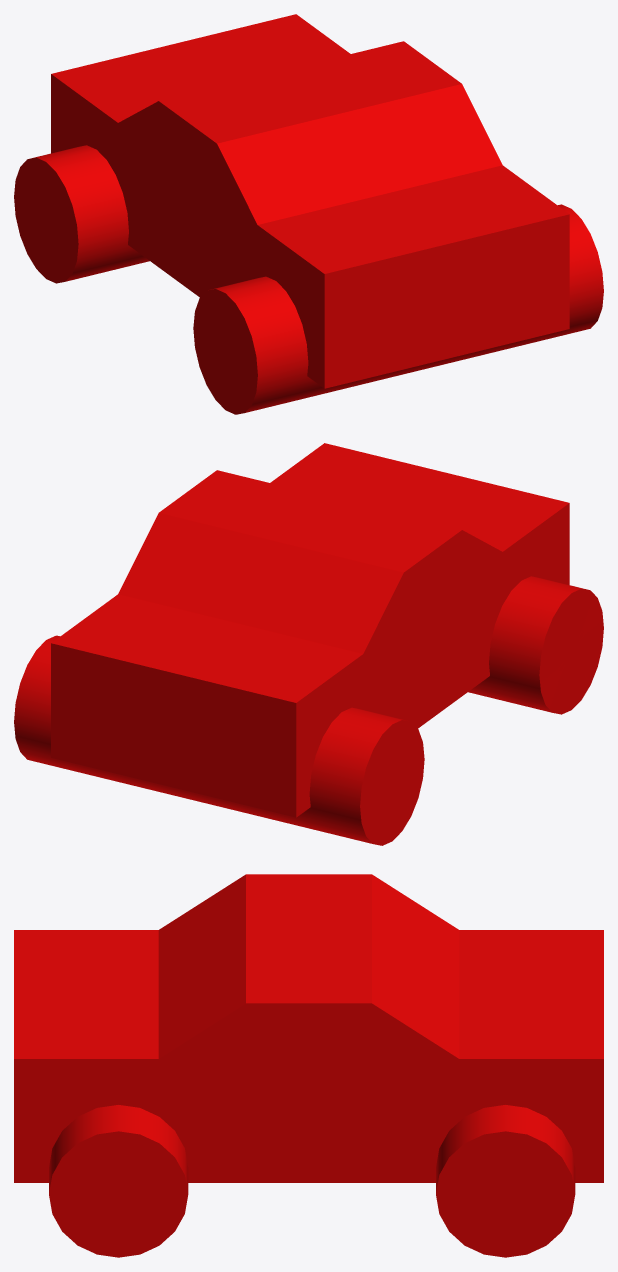
File: refCar.fbx
The picture shows the model from 3 angles, top to bottom: view 1: azimuth 30°, elevation 25°; view 2: azimuth 150°, elevation 25°; view 3: azimuth 270°, elevation 25°; orthographic projection. The views are drawn at different scales.
Visible parts, largest first — view 1: refCar; view 2: refCar; view 3: refCar.
Part boxes in pixels (x1=…): refCar: x1=14, y1=14, x2=603, y2=414; refCar: x1=14, y1=443, x2=603, y2=845; refCar: x1=14, y1=874, x2=603, y2=1257.
Size of the model in its own units: 1.41 by 0.8232 by 1.93.
